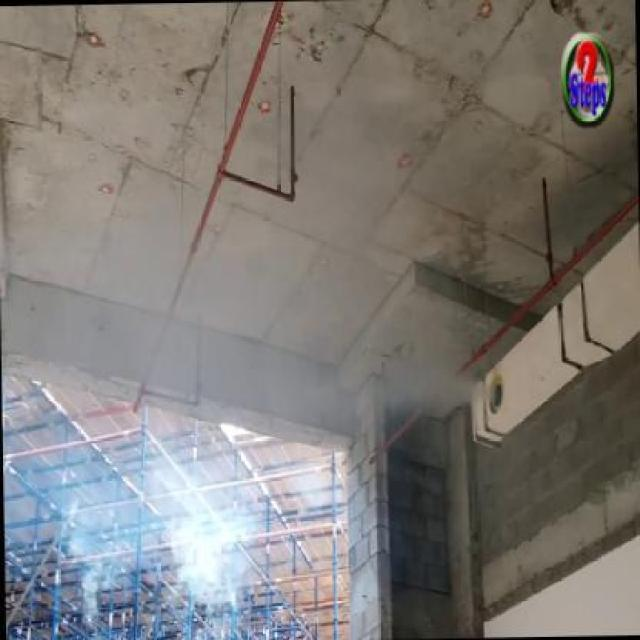fire: (156, 457, 256, 606), (374, 324, 497, 420)
